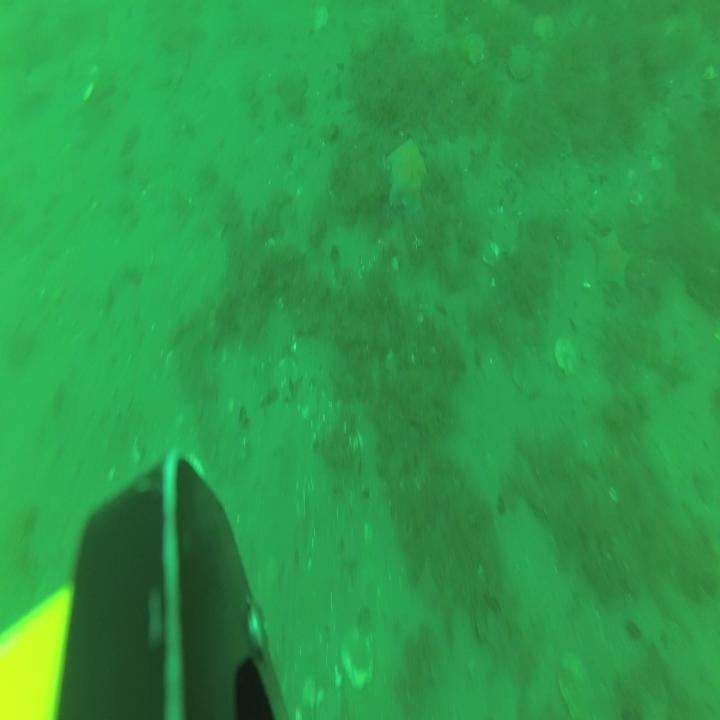scallop: (556, 651, 594, 720), (338, 623, 376, 690), (507, 340, 544, 398), (491, 212, 519, 256), (506, 42, 534, 83), (556, 332, 580, 379), (459, 29, 487, 68), (533, 10, 555, 44), (310, 2, 330, 36)
starfish: (384, 134, 428, 218), (586, 220, 633, 291)
